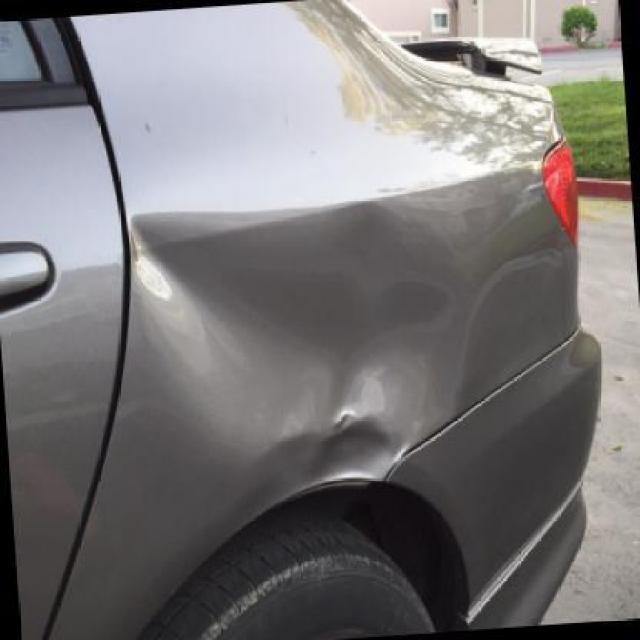dent: (135, 205, 466, 458)
